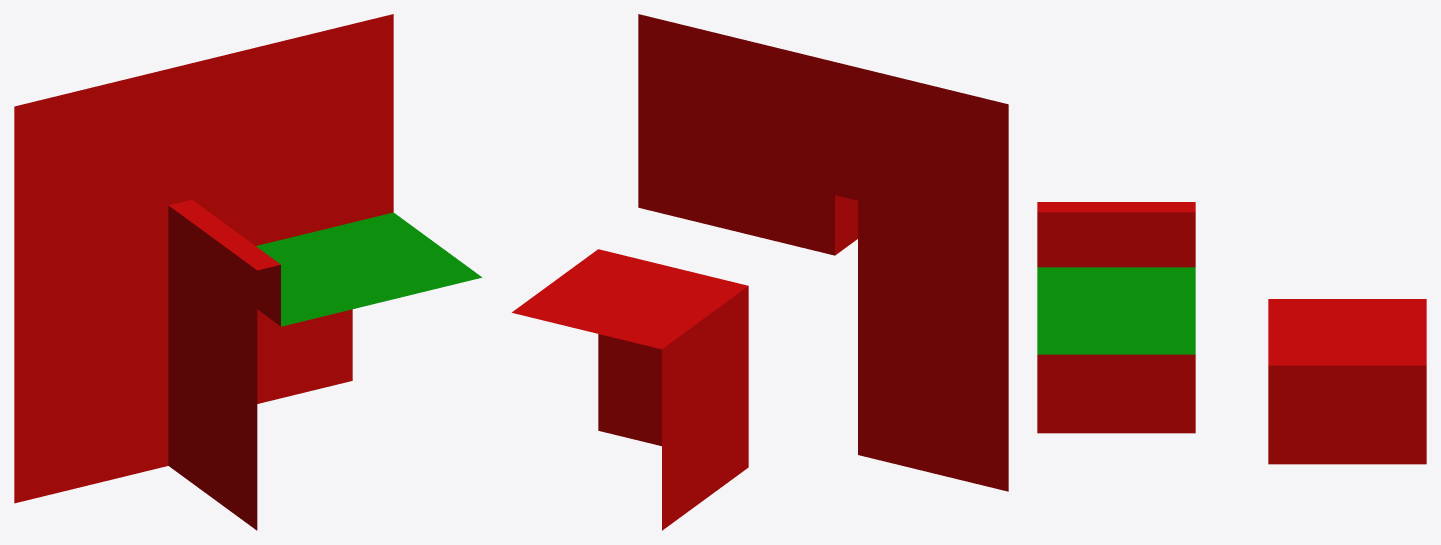
3 views of the same model, side by side, from view 1: azimuth 30°, elevation 25°; view 2: azimuth 150°, elevation 25°; view 3: azimuth 270°, elevation 25° (orthographic). The views are drawn at different scales.
Visible parts, largest first — view 1: None_E_W_A_E_A_E_A_E_None; view 2: None_E_W_A_E_A_E_A_E_None; view 3: None_E_W_A_E_A_E_A_E_None.
Part boxes in pixels (left/top/right/bottom): None_E_W_A_E_A_E_A_E_None: left=14, top=14, right=482, bottom=530; None_E_W_A_E_A_E_A_E_None: left=512, top=14, right=1008, bottom=530; None_E_W_A_E_A_E_A_E_None: left=1037, top=202, right=1426, bottom=464.
Size of the model in its own units: 100 by 100 by 100.
